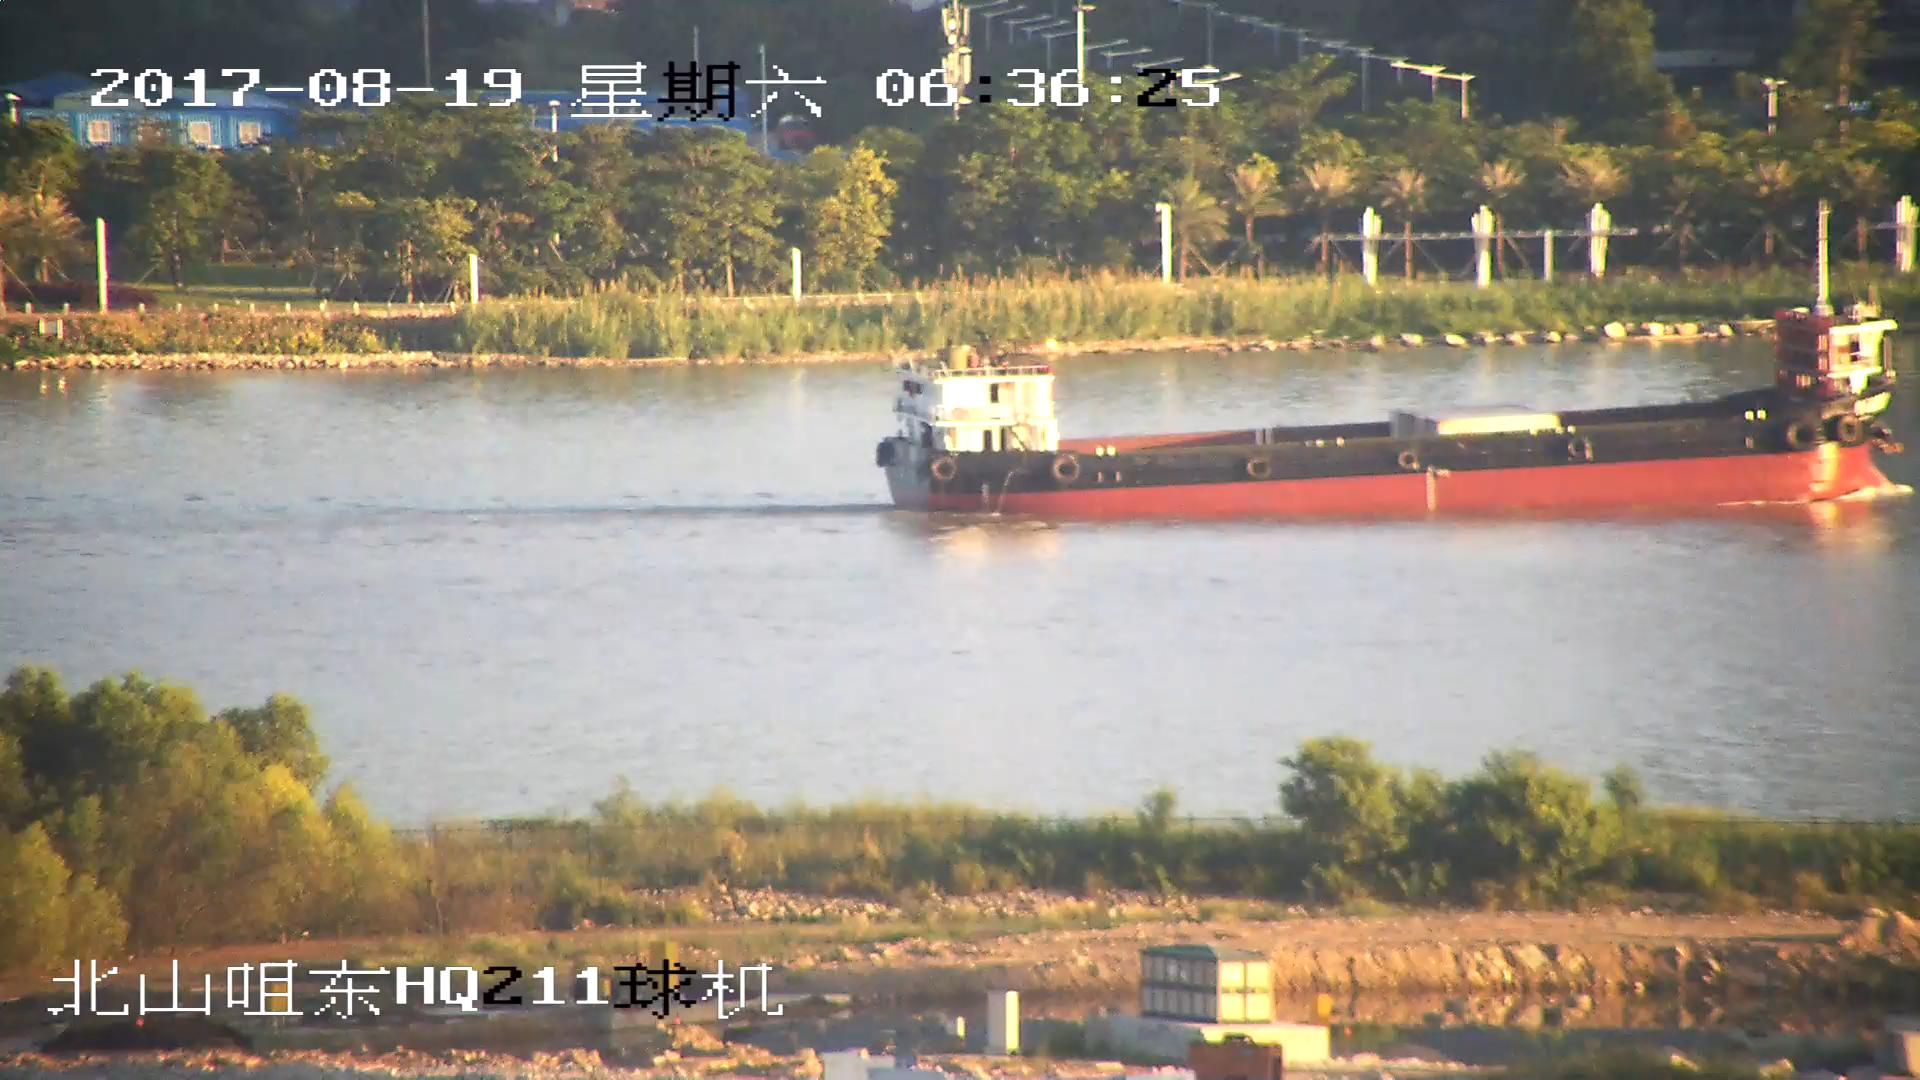general cargo ship: (883, 298, 1891, 520)
